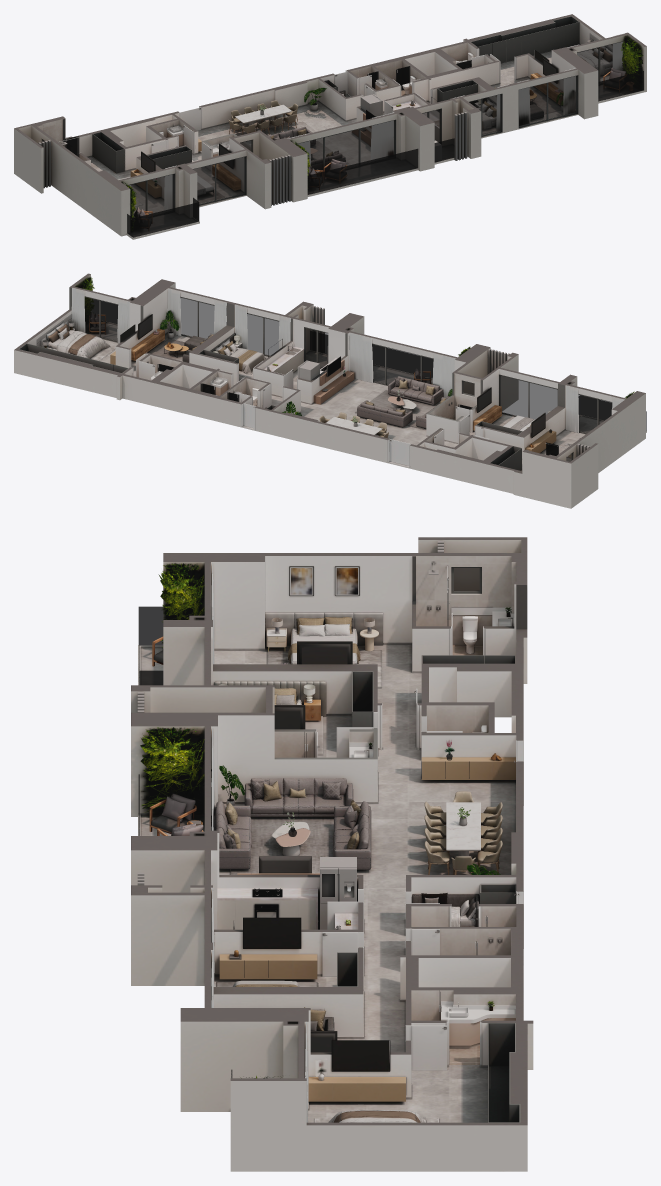
Rendered from floor_plan1.glb.
The picture shows the model from 3 angles, top to bottom: view 1: azimuth 30°, elevation 25°; view 2: azimuth 150°, elevation 25°; view 3: azimuth 270°, elevation 25°; orthographic projection. The views are drawn at different scales.
Visible parts, largest first — view 1: rendertotexture_2, Glass_0, bake_1, bakeplantas_3; view 2: rendertotexture_2, Glass_0, bake_1, B-ACC-06-Plant_4, bakeplantas_3; view 3: rendertotexture_2, bake_1, bakeplantas_3, Glass_0.
Part boxes in pixels (bbox=[...]): rendertotexture_2: bbox=[14, 14, 646, 239]; Glass_0: bbox=[43, 42, 643, 237]; bake_1: bbox=[134, 48, 625, 222]; bakeplantas_3: bbox=[124, 38, 643, 229]; rendertotexture_2: bbox=[14, 273, 646, 508]; Glass_0: bbox=[84, 297, 646, 461]; bake_1: bbox=[46, 311, 571, 457]; B-ACC-06-Plant_4: bbox=[160, 310, 452, 434]; bakeplantas_3: bbox=[78, 277, 634, 398]; rendertotexture_2: bbox=[131, 537, 533, 1171]; bake_1: bbox=[161, 617, 479, 1122]; bakeplantas_3: bbox=[140, 563, 281, 1078]; Glass_0: bbox=[138, 568, 487, 1077].
Size of the model in its own units: 31.56 by 2.72 by 9.96.
Materials: 5 (4 with a texture image).
